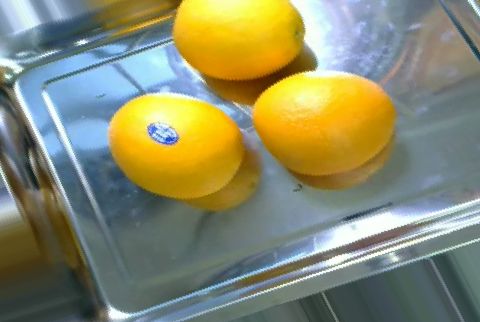Orange: (250, 69, 397, 177), (108, 90, 244, 200), (169, 0, 305, 80)
